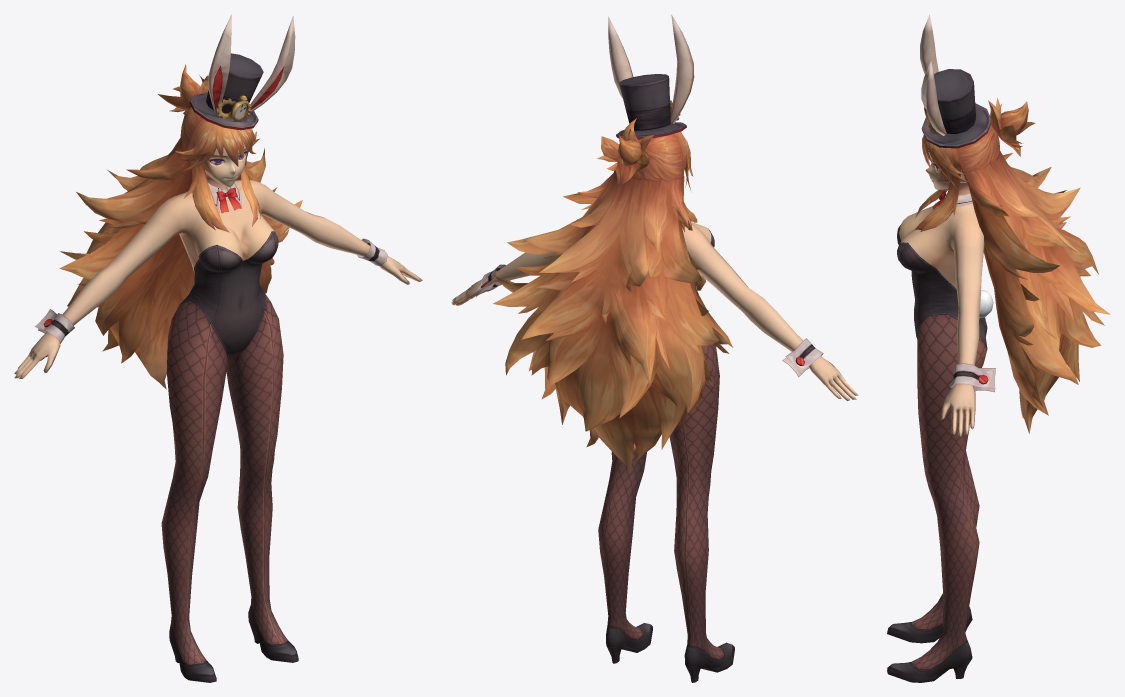
Rendered from rhea.glb.
3 views of the same model, side by side, from view 1: azimuth 30°, elevation 25°; view 2: azimuth 150°, elevation 25°; view 3: azimuth 270°, elevation 25° (orthographic).
Visible parts, largest first — view 1: Hero_Yanne_Cos17Halloween_Body_0, Hero_Yanne_Cos17Halloween_Hair_0, Hero_Yanne_Cos17Halloween_Body_1, Hero_Yanne_Cos17Halloween_Hair_1_New_Material_Variant_Varian; view 2: Hero_Yanne_Cos17Halloween_Hair_0, Hero_Yanne_Cos17Halloween_Body_0, Hero_Yanne_Cos17Halloween_Hair_1_New_Material_Variant_Varian, Hero_Yanne_Cos17Halloween_Body_1; view 3: Hero_Yanne_Cos17Halloween_Hair_0, Hero_Yanne_Cos17Halloween_Body_0, Hero_Yanne_Cos17Halloween_Body_1, Hero_Yanne_Cos17Halloween_Hair_1_New_Material_Variant_Varian.
Part boxes in pixels (x1,y1,x2,y2): Hero_Yanne_Cos17Halloween_Body_0: (14, 173, 422, 664); Hero_Yanne_Cos17Halloween_Hair_0: (59, 64, 302, 389); Hero_Yanne_Cos17Halloween_Body_1: (35, 183, 387, 682); Hero_Yanne_Cos17Halloween_Hair_1_New_Material_Variant_Varian: (189, 14, 295, 130); Hero_Yanne_Cos17Halloween_Hair_0: (493, 118, 732, 469); Hero_Yanne_Cos17Halloween_Body_0: (451, 222, 858, 659); Hero_Yanne_Cos17Halloween_Hair_1_New_Material_Variant_Varian: (608, 14, 694, 139); Hero_Yanne_Cos17Halloween_Body_1: (472, 228, 823, 682); Hero_Yanne_Cos17Halloween_Hair_0: (915, 97, 1109, 433); Hero_Yanne_Cos17Halloween_Body_0: (899, 171, 987, 669); Hero_Yanne_Cos17Halloween_Body_1: (887, 190, 995, 682); Hero_Yanne_Cos17Halloween_Hair_1_New_Material_Variant_Varian: (920, 14, 991, 148).
Bounding box in the file's own units: 1.82 × 2.78 × 0.8745.
4 materials, 4 textured.
